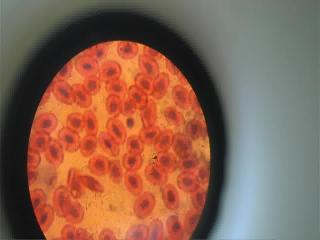cell: (107, 114, 127, 140), (52, 188, 70, 216), (163, 185, 182, 209), (139, 55, 160, 76), (145, 165, 166, 186), (59, 128, 79, 150), (124, 172, 145, 192), (154, 151, 175, 171), (135, 196, 157, 215), (47, 142, 67, 162), (68, 201, 87, 222), (123, 150, 145, 168), (34, 114, 58, 130), (84, 110, 100, 134), (174, 82, 190, 106), (32, 132, 56, 148), (56, 82, 76, 101), (131, 85, 149, 106), (74, 85, 92, 106), (101, 134, 119, 155), (166, 107, 184, 128), (175, 137, 196, 154), (116, 41, 138, 57), (140, 125, 162, 141), (90, 156, 112, 172), (110, 160, 126, 182), (145, 100, 159, 125), (169, 216, 184, 239), (108, 80, 132, 94), (136, 73, 154, 91), (78, 57, 98, 73), (156, 75, 171, 96), (37, 210, 54, 228), (124, 224, 144, 239), (101, 65, 123, 78), (178, 174, 198, 188), (128, 137, 146, 152), (82, 136, 95, 156), (192, 190, 208, 206), (68, 112, 82, 130), (150, 221, 164, 239), (107, 97, 120, 116), (182, 157, 202, 169), (31, 190, 44, 208), (157, 132, 170, 150), (86, 77, 102, 90)
